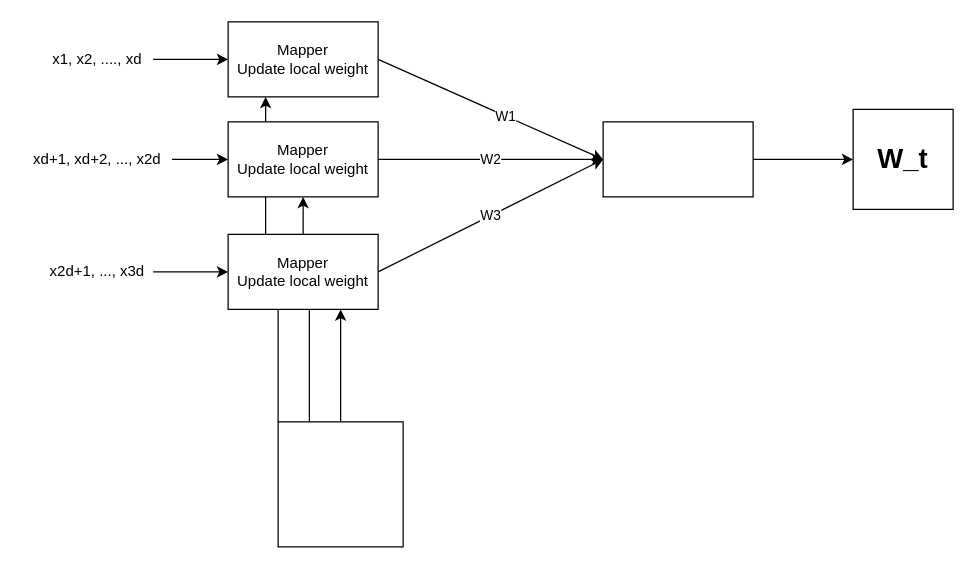
This 975x569 diagram has some shape labels left out. Each missing label, with the centre of its shape:
"Reducer Average the sent weights" goes at [677,159].
"W_t-1" goes at [340,484].
